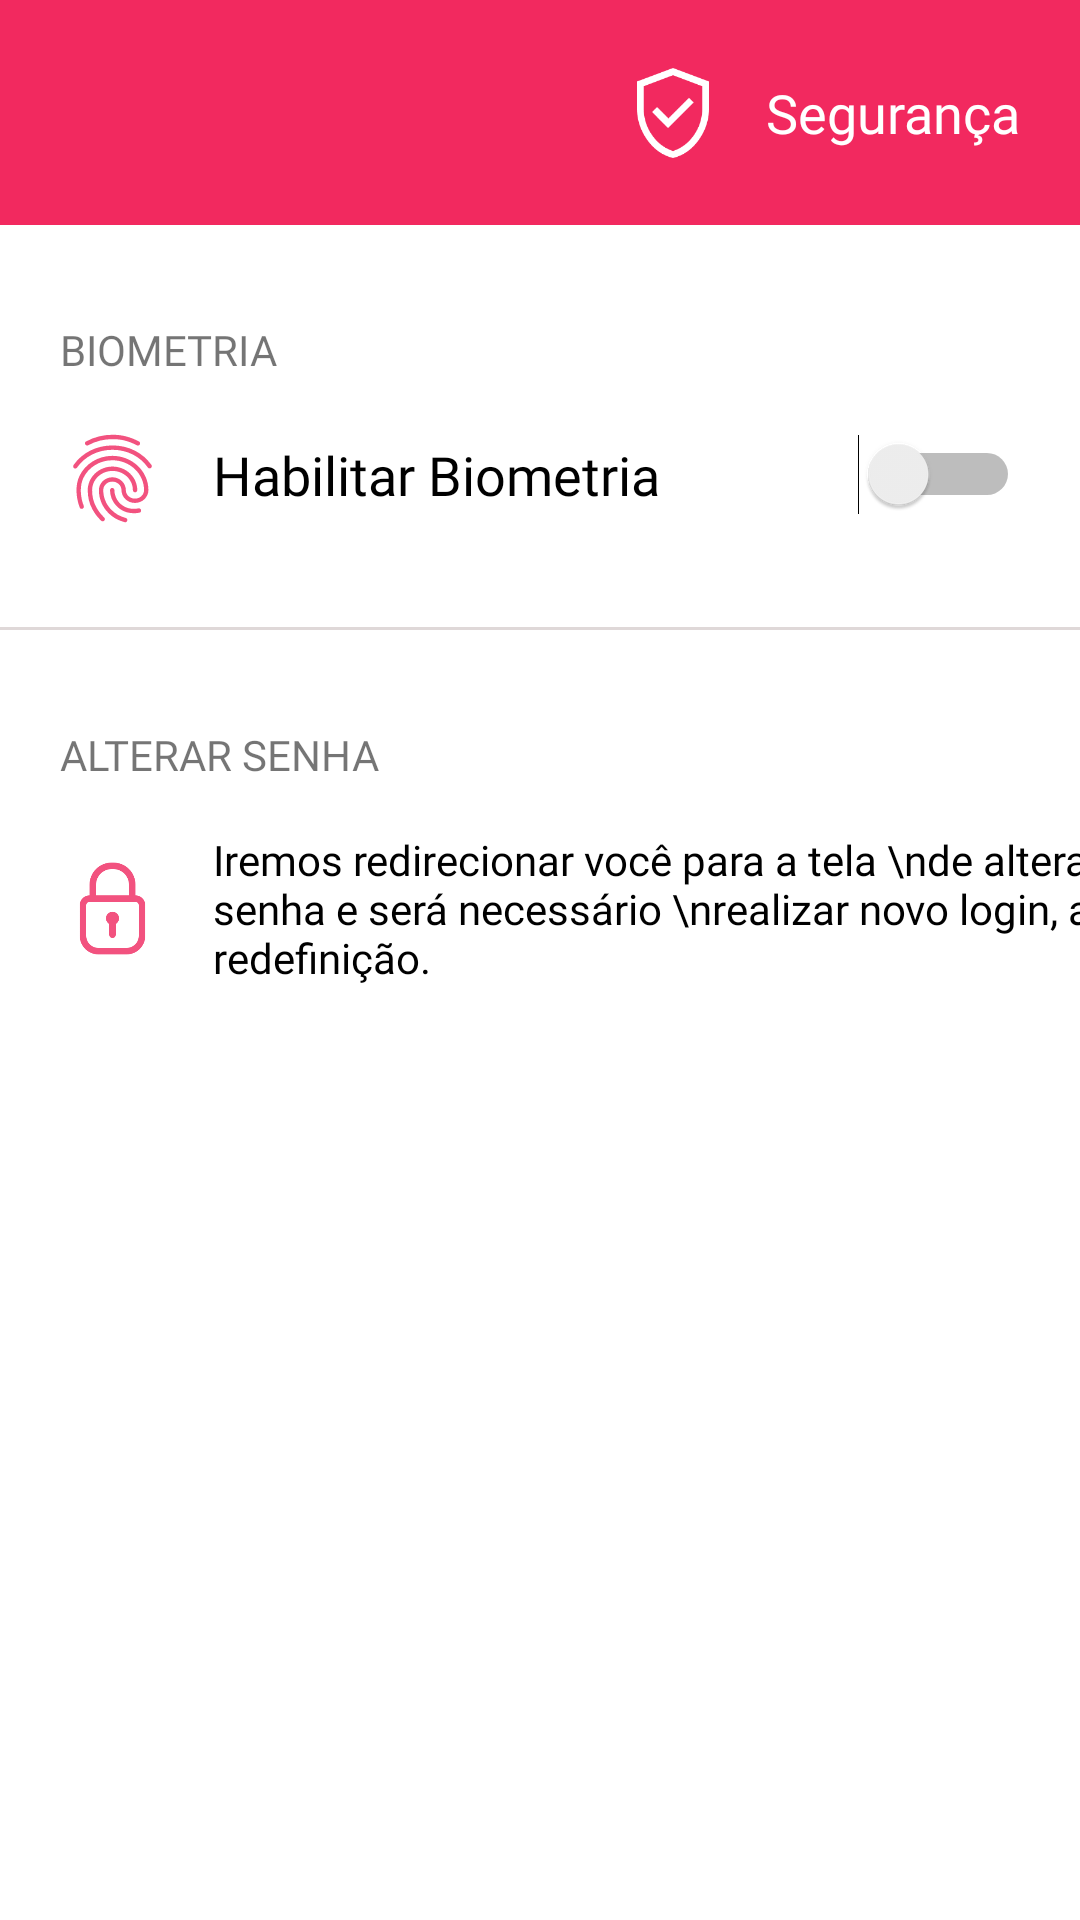

Where to tap for icons on this 1080x1920 app screen, as point (x, y):
fingerprint: point (112, 478)
locked: point (112, 908)
security branco: point (673, 113)
